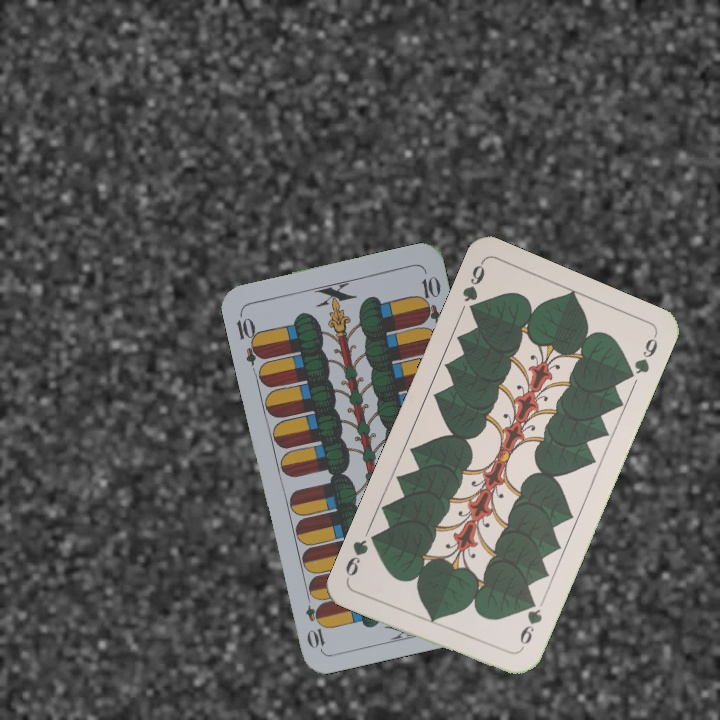E10: (232, 308, 267, 367)
G9: (458, 258, 488, 319), (514, 595, 545, 654)
